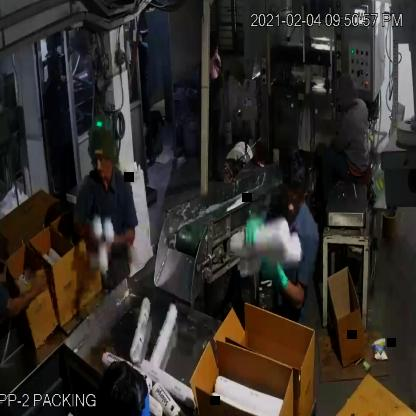glove: (240, 204, 311, 326)
no_glove: (3, 262, 50, 324), (66, 205, 104, 254), (106, 210, 142, 252)
